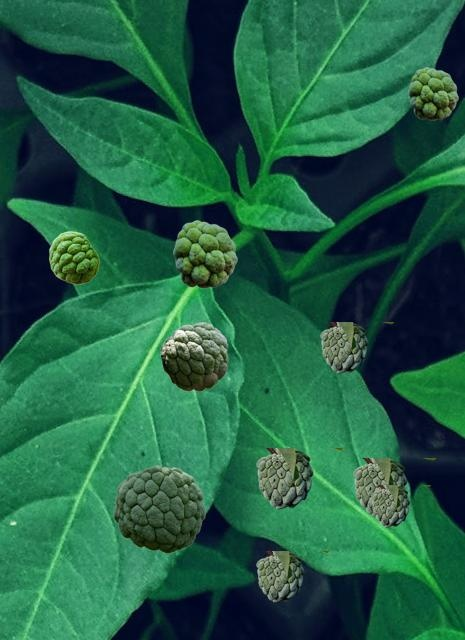atis: (113, 465, 204, 552), (256, 448, 342, 508), (353, 458, 434, 515), (160, 322, 227, 390), (173, 220, 236, 287), (256, 551, 328, 601), (320, 322, 392, 372), (49, 231, 98, 283), (408, 67, 457, 119), (371, 485, 429, 526)
